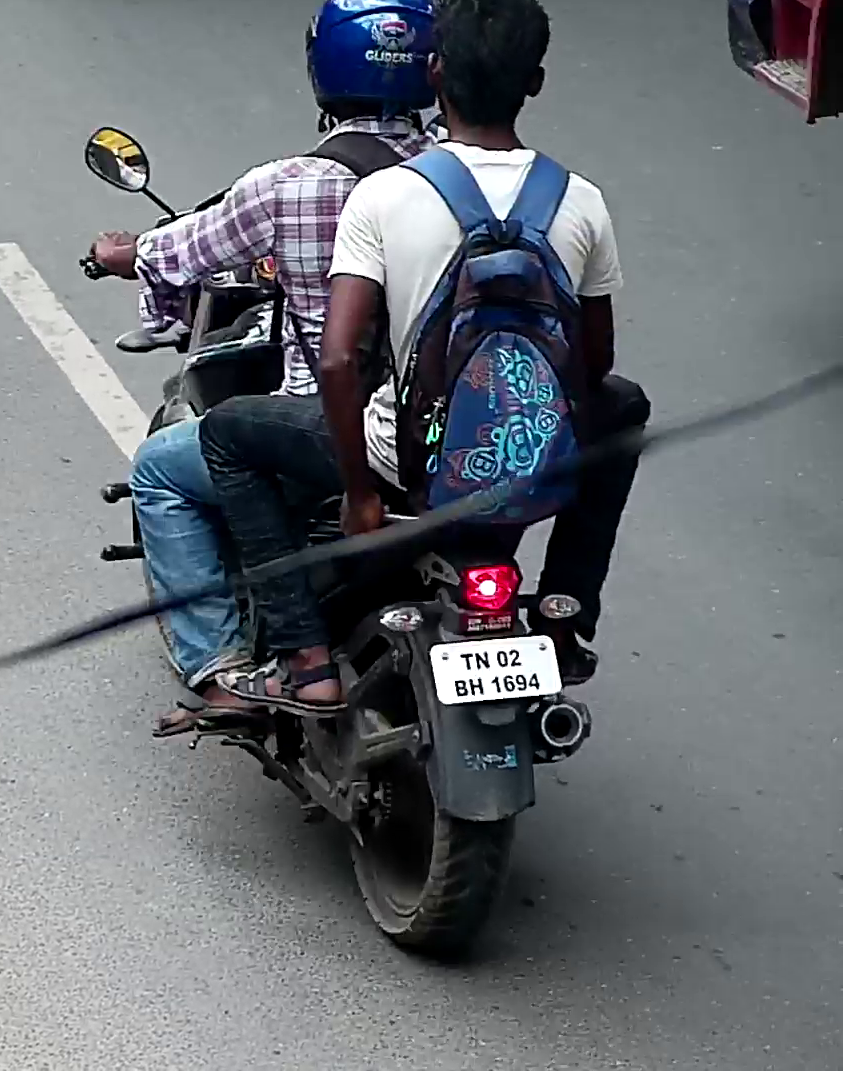0: (496, 650, 508, 667)
1: (491, 676, 502, 693)
2: (508, 648, 522, 667)
4: (527, 673, 540, 690)
6: (503, 675, 515, 692)
9: (515, 674, 527, 692)
B: (454, 679, 468, 697)
H: (468, 678, 484, 696)
N: (474, 651, 490, 669)
P16: (429, 634, 563, 707)
T: (460, 653, 473, 671)
